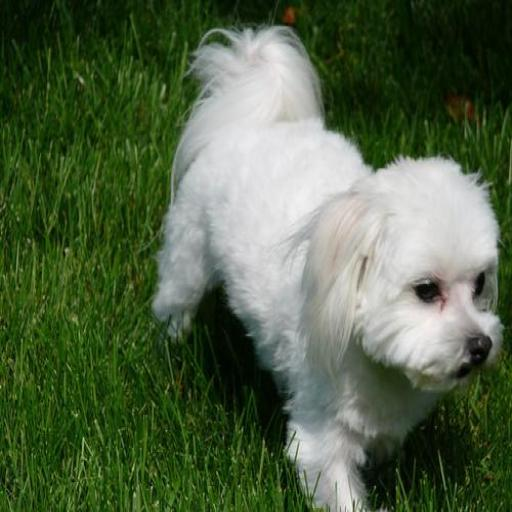dog_face: (310, 152, 504, 410)
